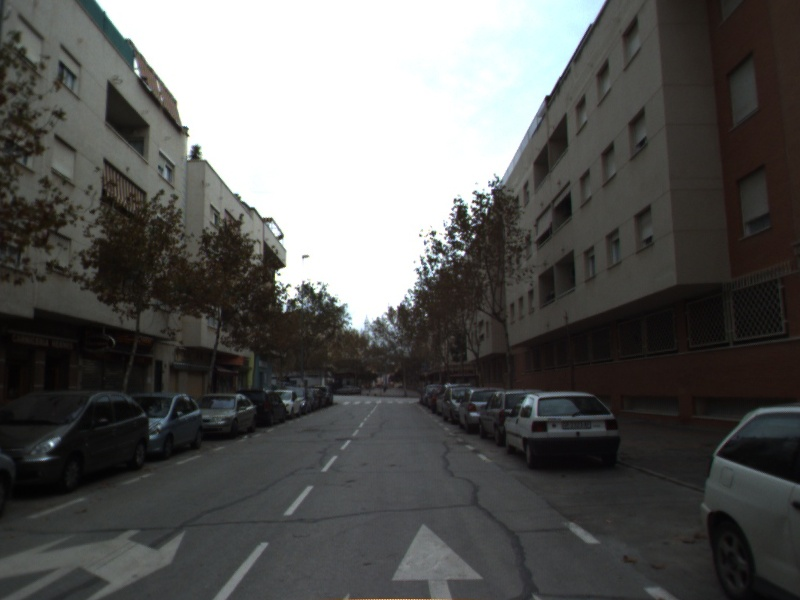STRAIGHT: (387, 520, 490, 600)
